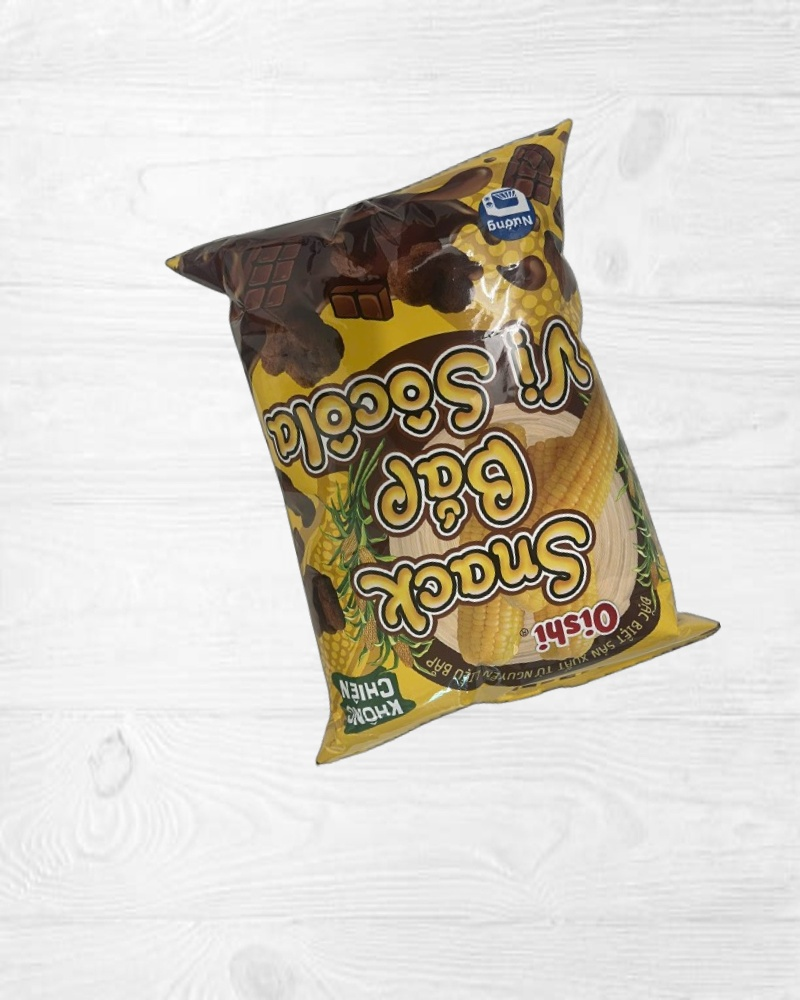Snack socola: (159, 118, 728, 769)
